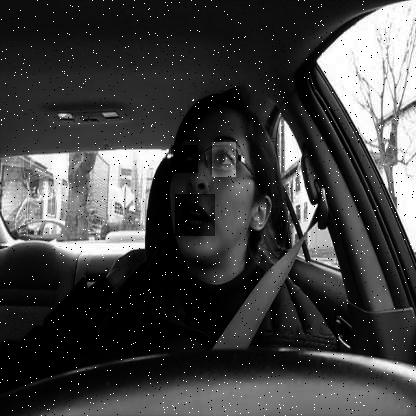seatbelt: (158, 86, 314, 344)
